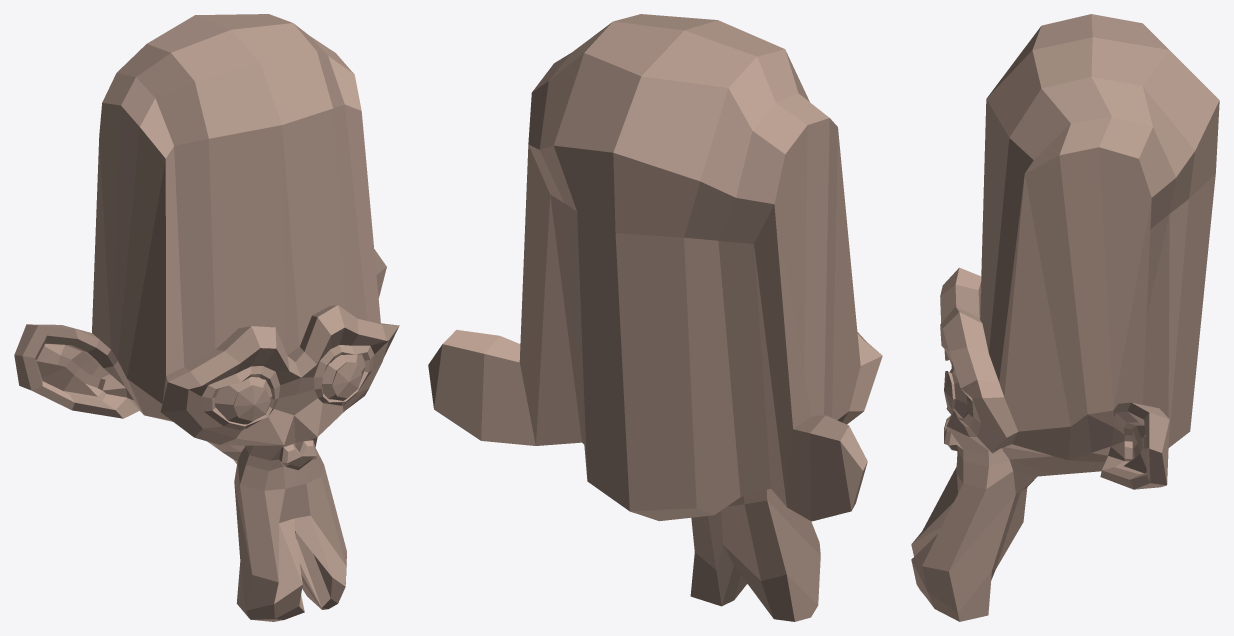
3 views of the same model, side by side, from view 1: azimuth 30°, elevation 25°; view 2: azimuth 150°, elevation 25°; view 3: azimuth 270°, elevation 25° (orthographic). The views are drawn at different scales.
Visible parts, largest first — view 1: t99; view 2: t99; view 3: t99.
Part boxes in pixels (<box>): t99: <box>14,14,399,621</box>; t99: <box>428,14,882,621</box>; t99: <box>911,14,1219,621</box>.
Bounding box in the file's own units: 565 × 788 × 389.
